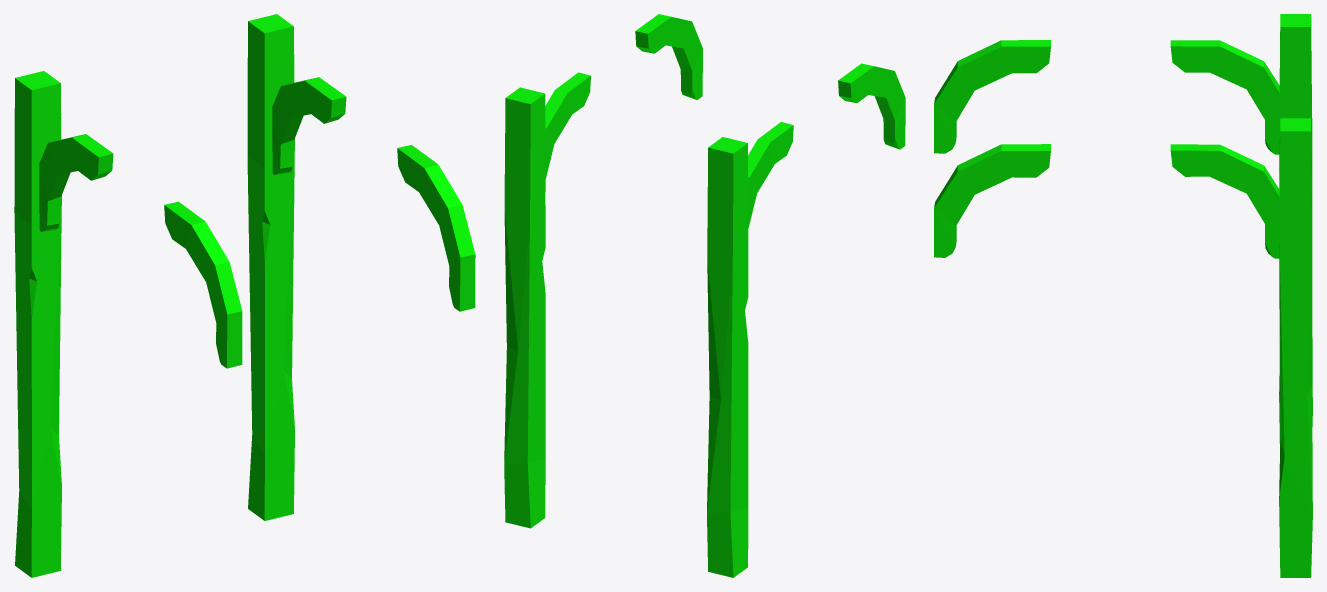
File: SM_House_Bridge_Pilar_Fantasy.fbx
3 views of the same model, side by side, from view 1: azimuth 30°, elevation 25°; view 2: azimuth 150°, elevation 25°; view 3: azimuth 270°, elevation 25° (orthographic). The views are drawn at different scales.
Parts seen in each view (by area): view 1: SM_House_Bridge_Pilar_Fantasy; view 2: SM_House_Bridge_Pilar_Fantasy; view 3: SM_House_Bridge_Pilar_Fantasy.
Part boxes in pixels (x1,y1,x2,y2): SM_House_Bridge_Pilar_Fantasy: (14,14,475,577); SM_House_Bridge_Pilar_Fantasy: (504,14,905,577); SM_House_Bridge_Pilar_Fantasy: (934,14,1312,577).
Size of the model in its own units: 2.25 by 4 by 3.07.
